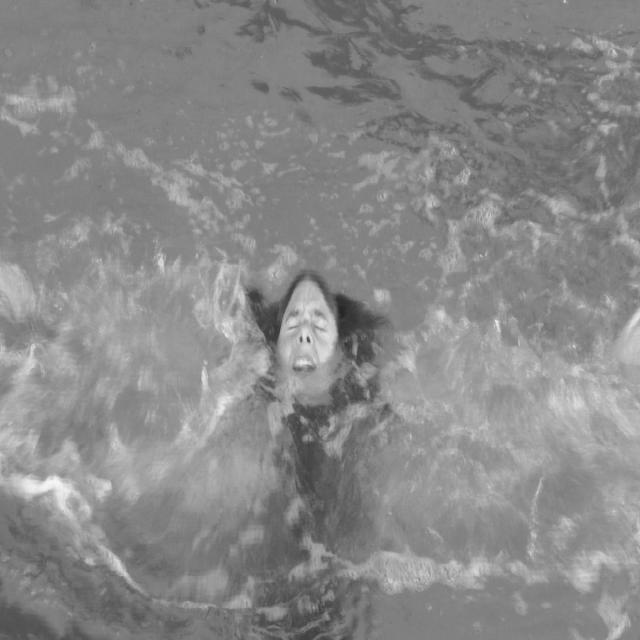drowning: (10, 119, 634, 586)
